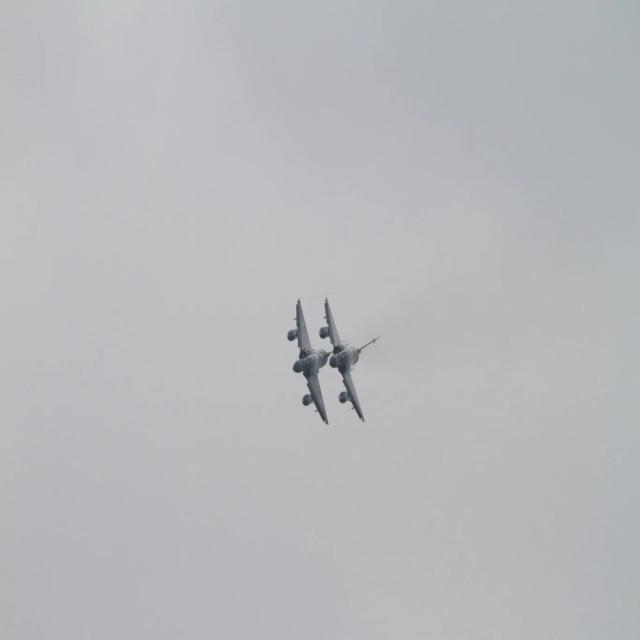MIL_Plane: (318, 296, 381, 423), (286, 297, 346, 425)
